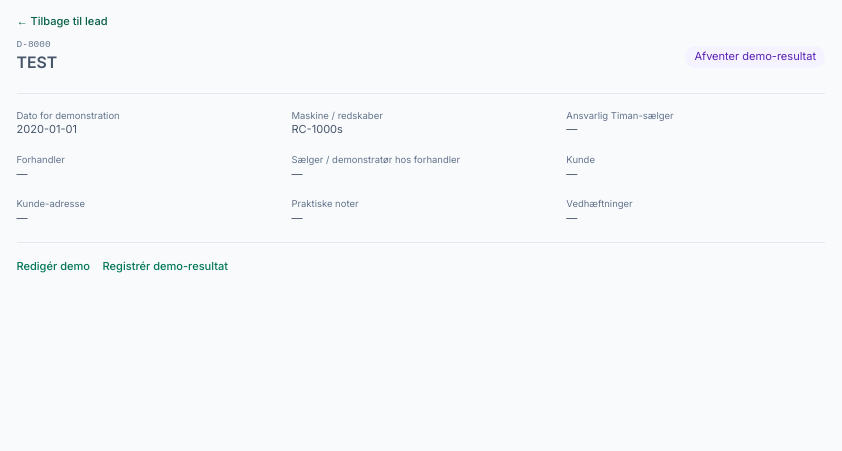
Test case: progressive demo result disclosure › opens result fields only after the explicit result action
Check: the text "Afventer demo-resultat" is shown, box [685,46,826,68]
Click the button "Registrér demo-resultat" at (165, 267), box [103,259,228,275]
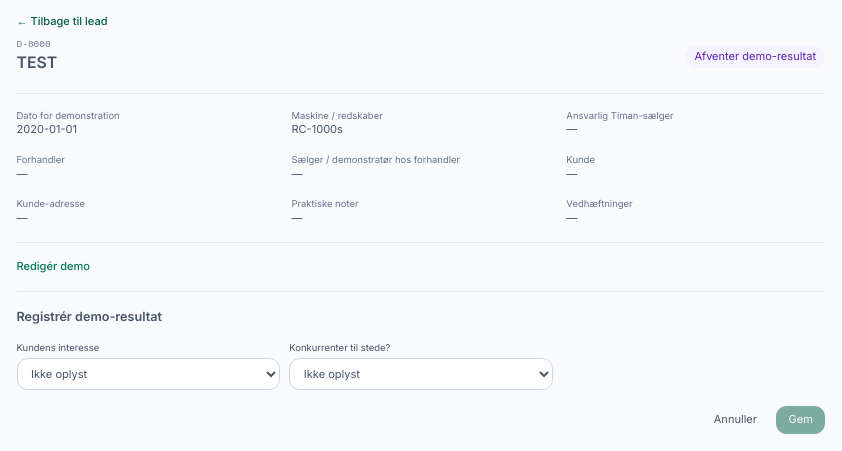
Check: the dropdown labelled "Kundens interesse" is shown, box [16,358,280,390]
Check: the text "Konkurrenter til stede?" is shown, box [289,342,390,353]
